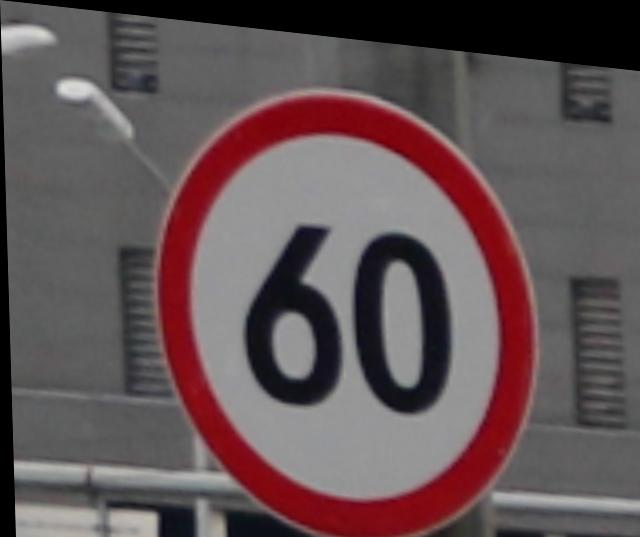limit60: (137, 56, 552, 537)
